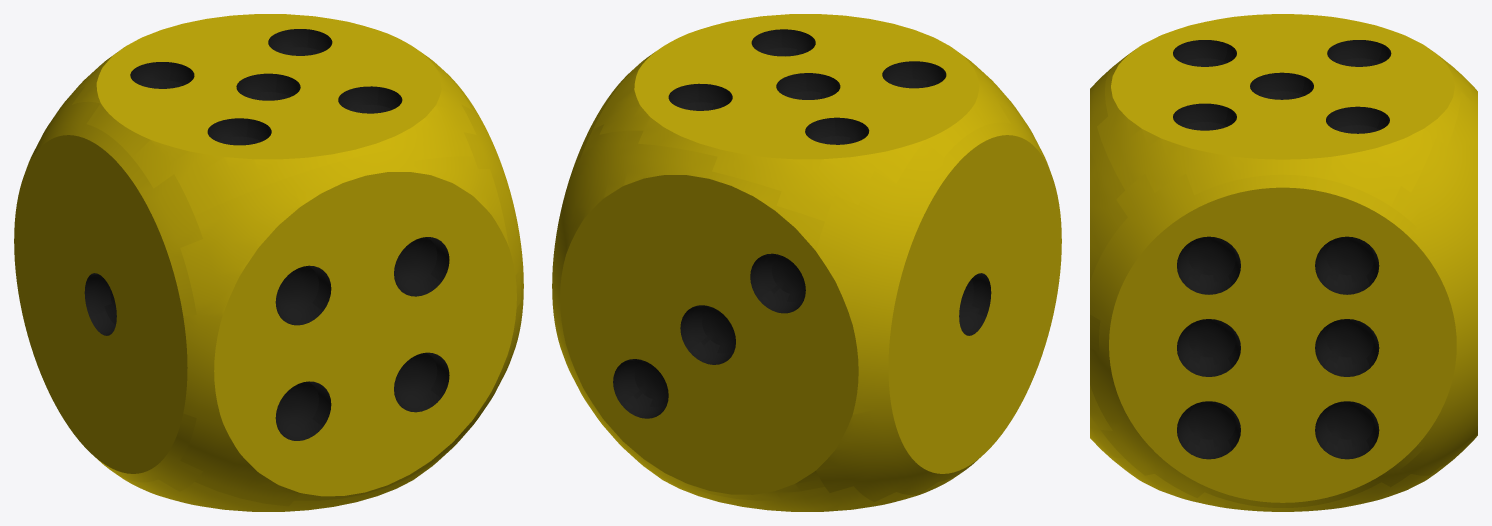
3 renders of one model, left to right at view 1: azimuth 30°, elevation 25°; view 2: azimuth 150°, elevation 25°; view 3: azimuth 270°, elevation 25°, orthographic.
Parts seen in each view (by area): view 1: yellow_body, black_pips; view 2: yellow_body, black_pips; view 3: yellow_body, black_pips.
Boxes of the visible parts, box(x1,y1,x2,y2) form: yellow_body: box(14, 14, 523, 511); black_pips: box(84, 29, 449, 440); yellow_body: box(552, 14, 1061, 511); black_pips: box(613, 29, 991, 418); yellow_body: box(1090, 14, 1477, 511); black_pips: box(1173, 40, 1391, 459).
Bounding box in the file's own units: 0.07 × 0.07 × 0.07.
